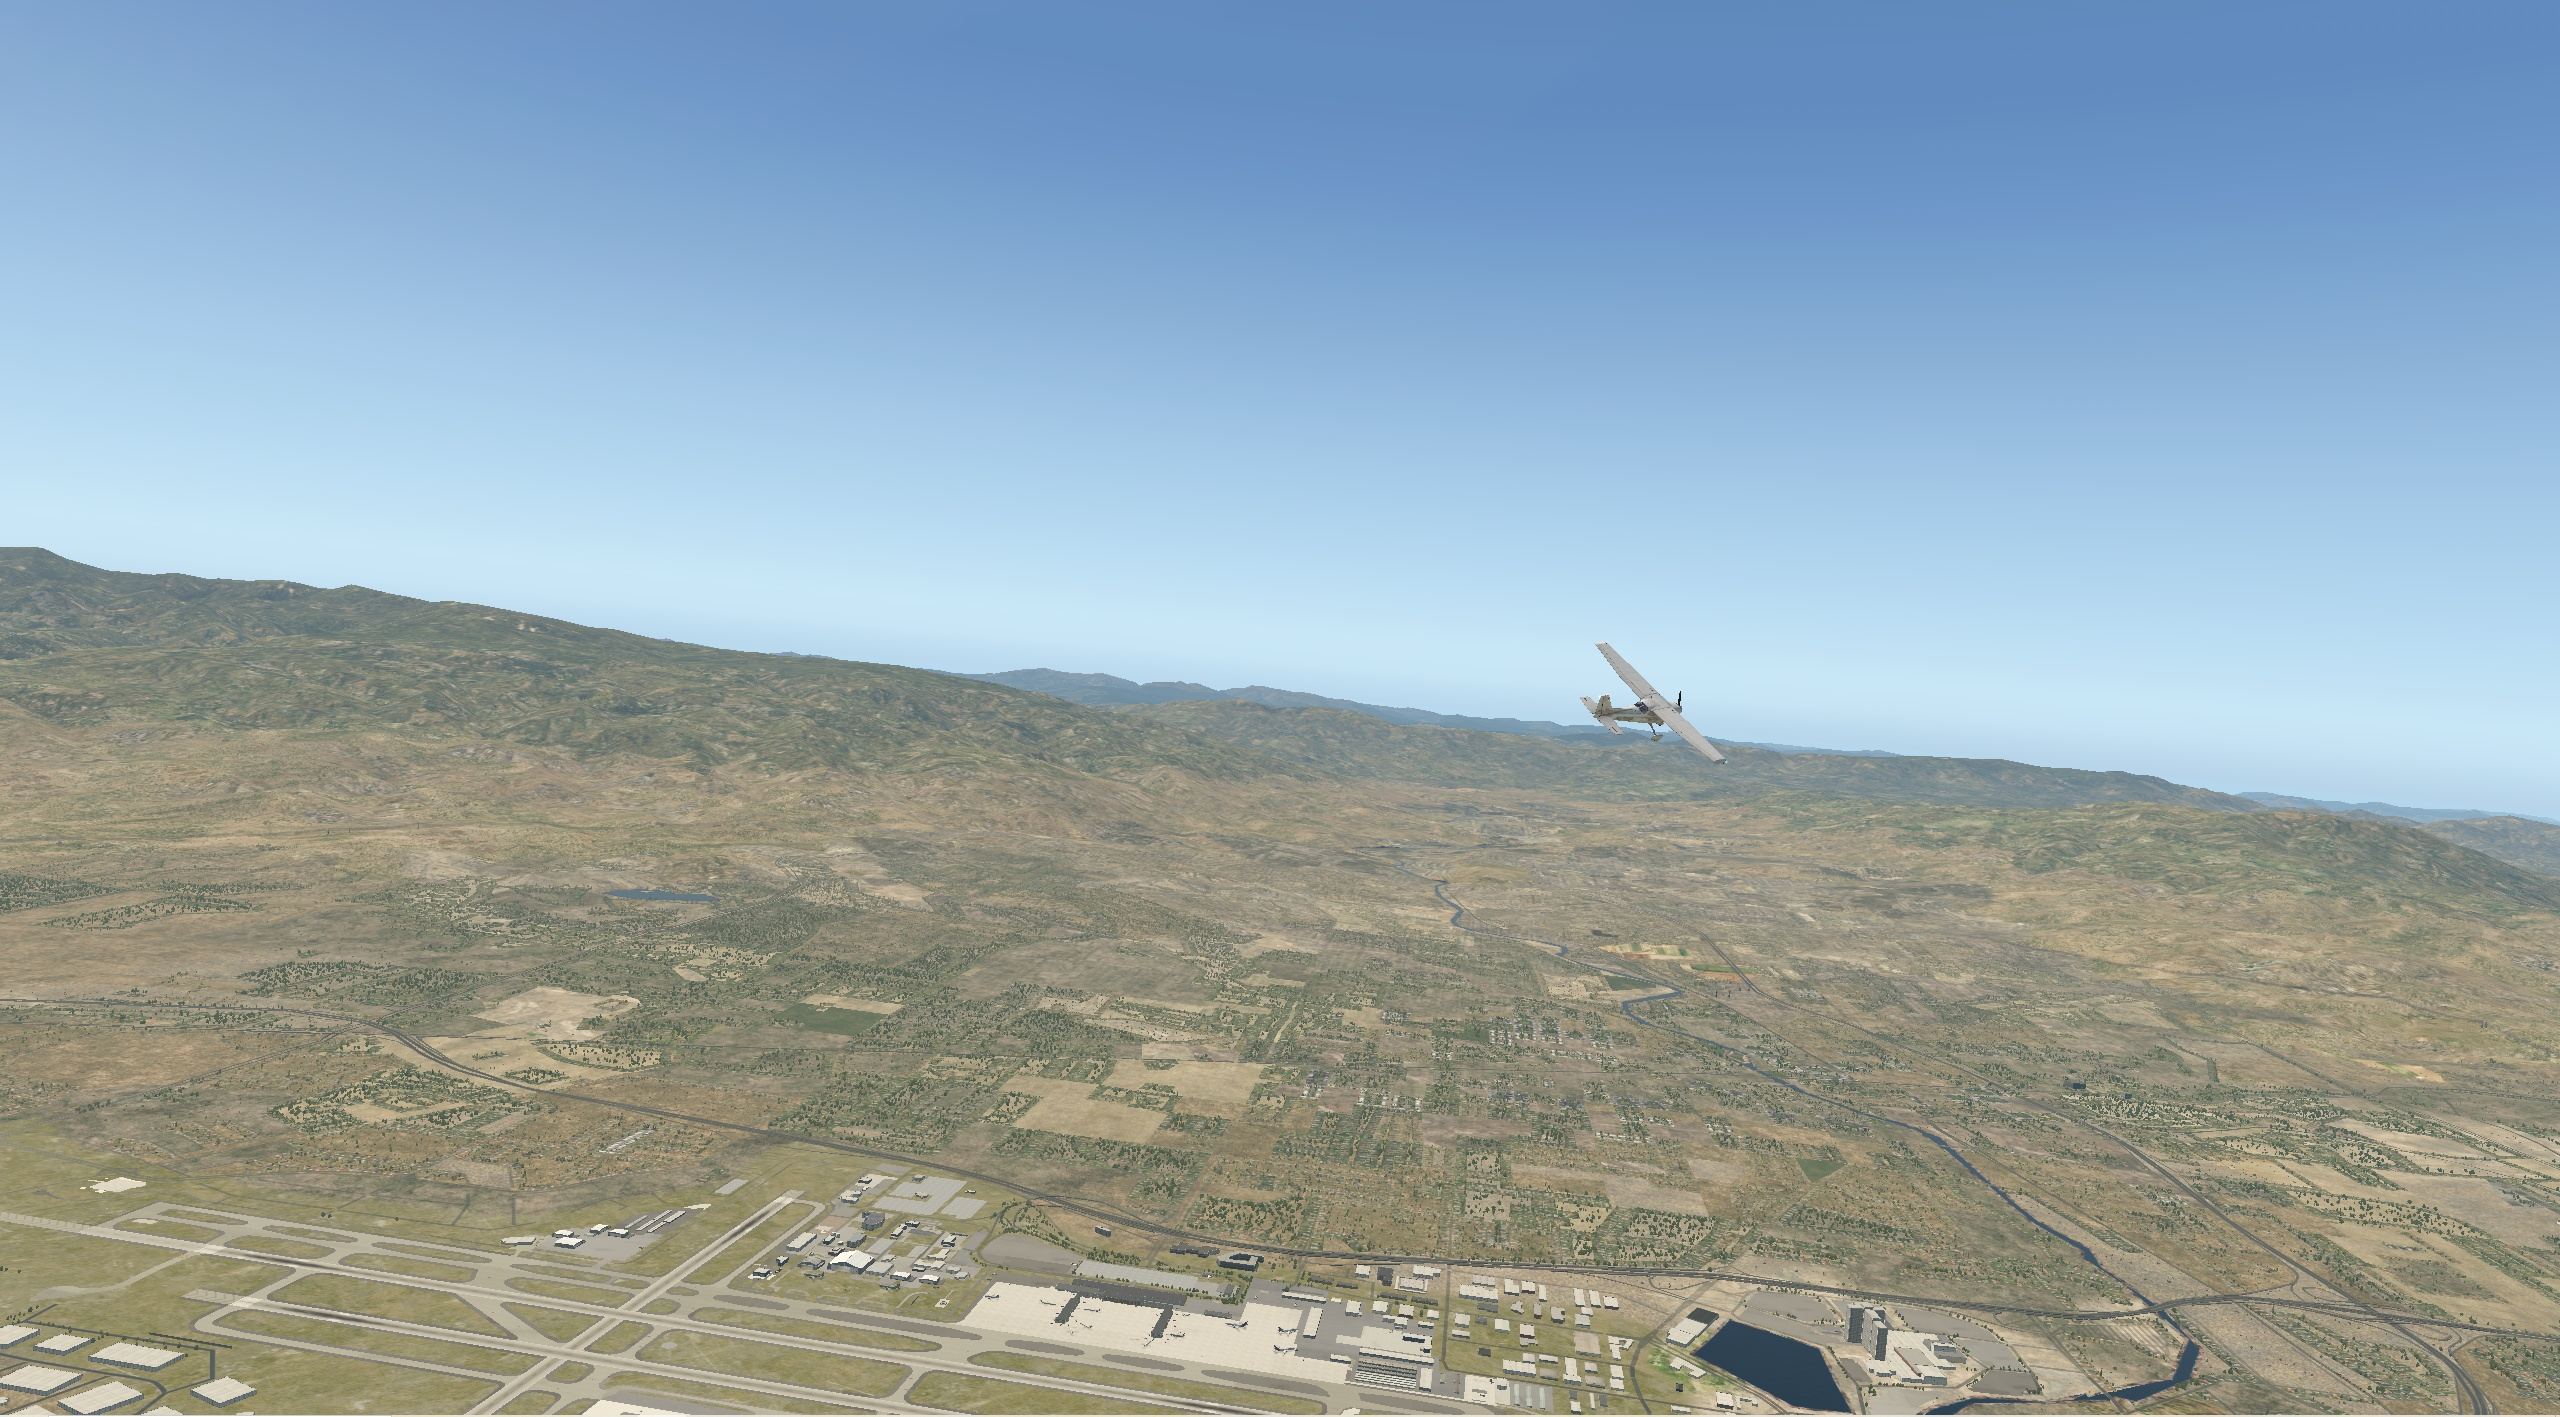aircraft: (1546, 668, 1766, 750)
